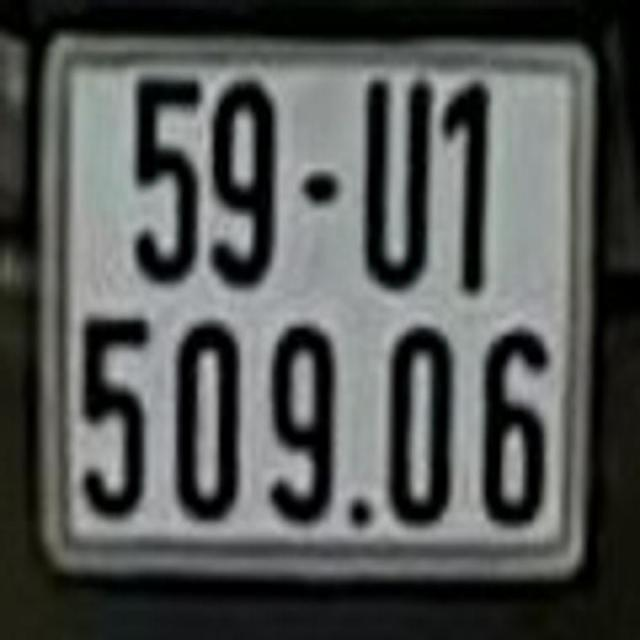0: (386, 317, 456, 530), (172, 321, 240, 522)
1: (443, 79, 496, 296)
5: (130, 80, 203, 277), (85, 312, 147, 512)
6: (485, 324, 550, 527)
9: (260, 311, 336, 524), (210, 74, 278, 281)
U: (364, 77, 440, 300)
